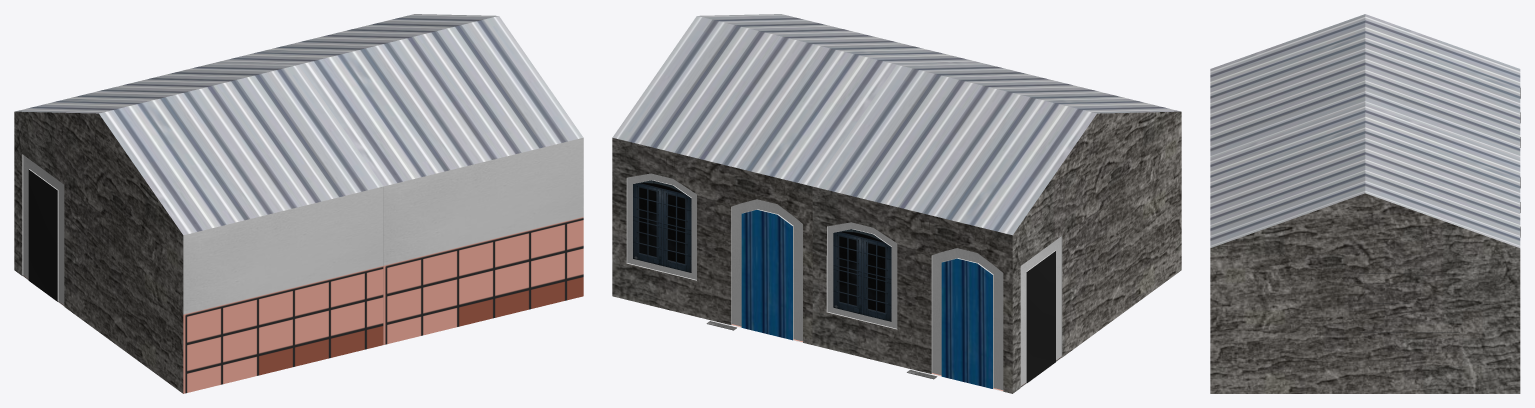
Rendered from Habitacion.glb.
3 views of the same model, side by side, from view 1: azimuth 30°, elevation 25°; view 2: azimuth 150°, elevation 25°; view 3: azimuth 270°, elevation 25° (orthographic). The views are drawn at different scales.
Visible parts, largest first — view 1: Cuarto, Techo; view 2: Cuarto, Techo; view 3: Techo, Cuarto.
Part boxes in pixels (left/top/right/bottom): Cuarto: left=14, top=111, right=583, bottom=393; Techo: left=15, top=14, right=583, bottom=235; Cuarto: left=612, top=111, right=1181, bottom=393; Techo: left=612, top=14, right=1180, bottom=235; Techo: left=1210, top=14, right=1520, bottom=247; Cuarto: left=1210, top=88, right=1520, bottom=393.
Size of the model in its own units: 5.28 by 2.84 by 3.87.
2 materials, 2 textured.
